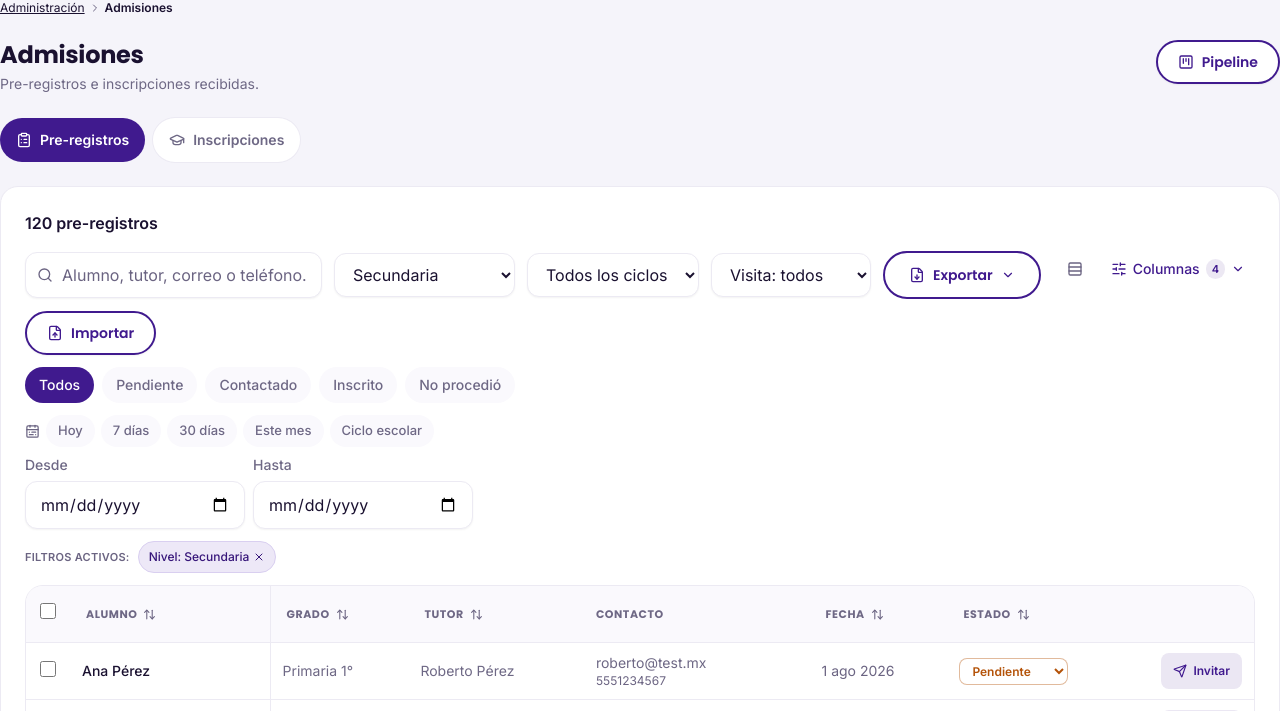
AdminAdmissions › bulk "select all matching" sends the list filters to set_status
The width and height of the screenshot is (1280, 711).
Expected: the text "Ana Pérez" is shown, x1=70 y1=642 x2=270 y2=700
Click the checkbox named "Seleccionar todas las filas de esta página" at point(48, 611), box x1=40 y1=603 x2=56 y2=619
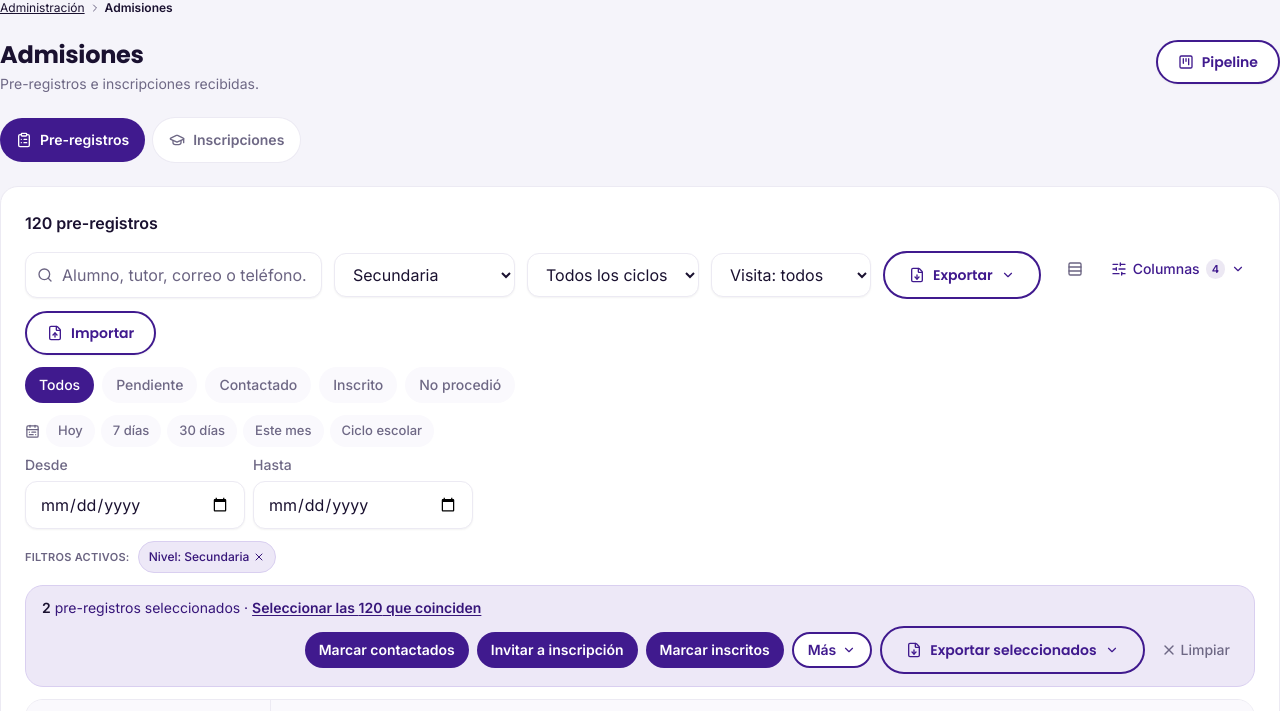
Click the button "Seleccionar las 120 que coinciden" at point(367, 608), box x1=252 y1=598 x2=481 y2=618
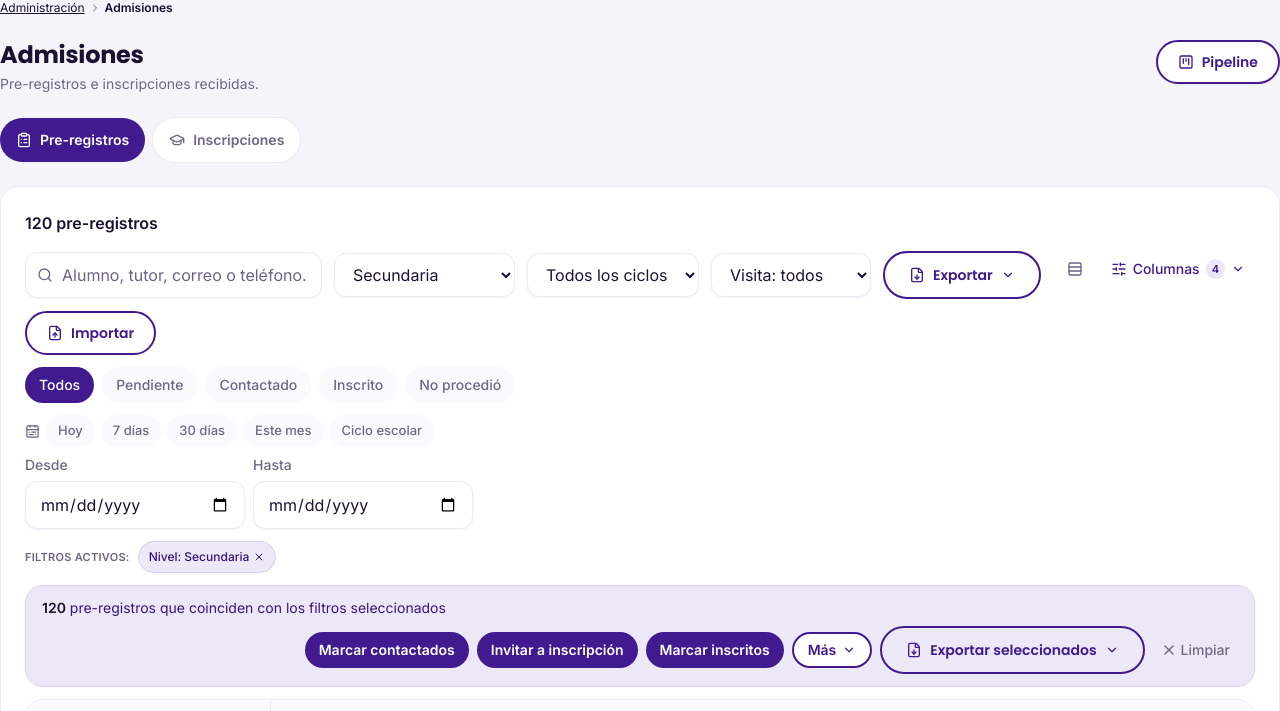
Click the button "Marcar contactados" at point(387, 650), box x1=305 y1=632 x2=469 y2=668
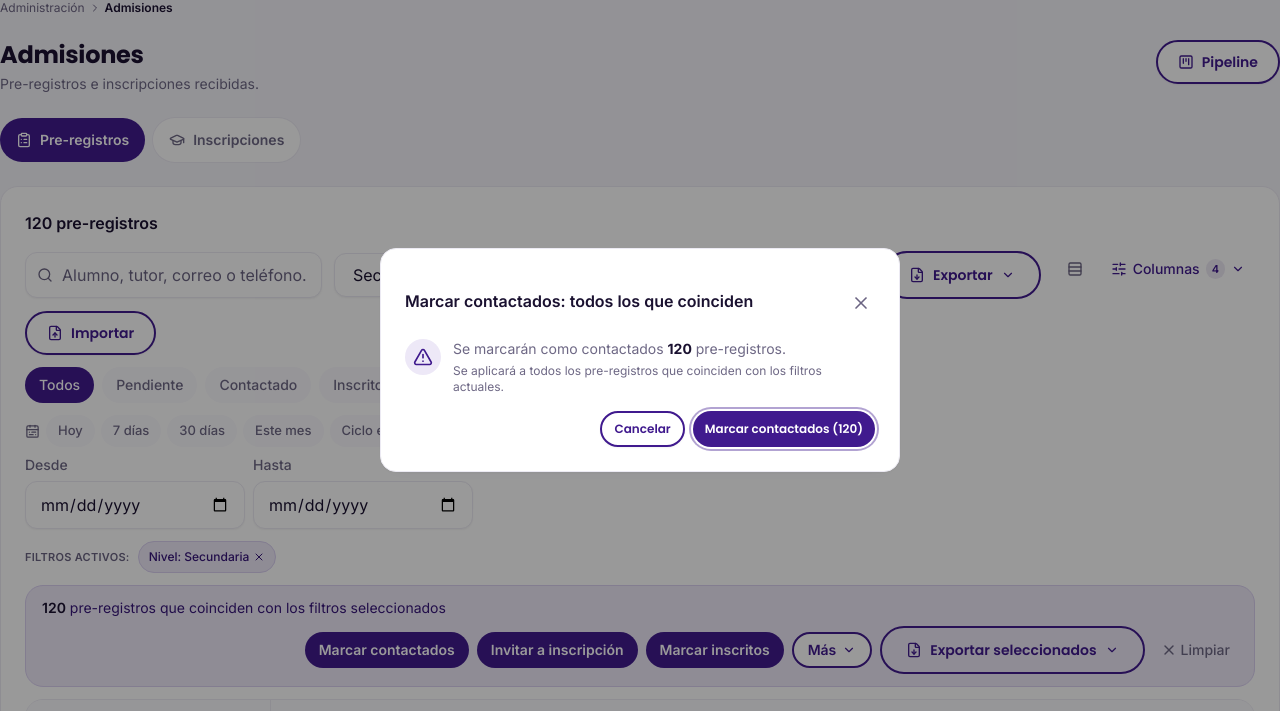
Expected: the text "Se marcarán como contactados 120 pre-registros." is shown, x1=453 y1=340 x2=786 y2=357
